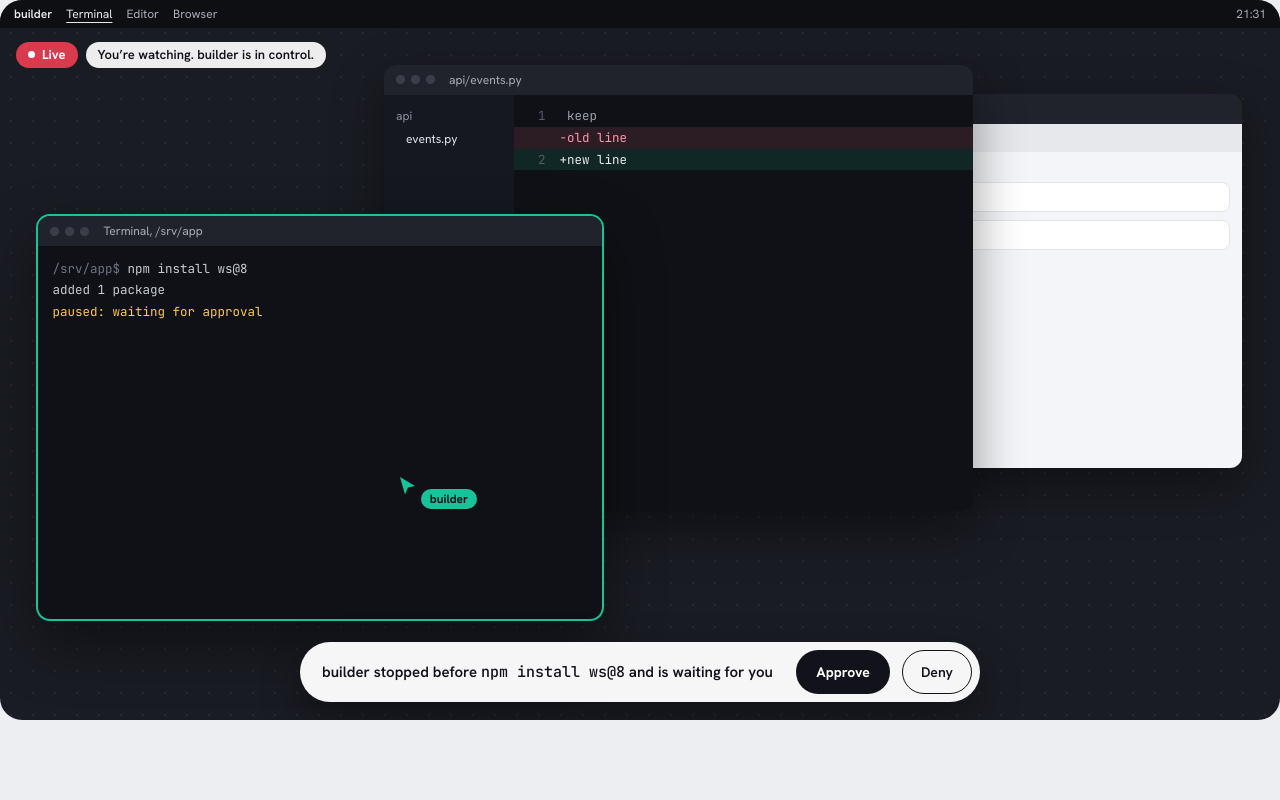
it: the approval bar names the command and answers through the decision endpoint
The image size is (1280, 800).
Expected: the element named "Approval needed" shows "builder stopped before npm install ws@8 and is waiting for you", 300,642 -> 980,702
Click the button "Approve".
click(843, 672)  # box 796,650 -> 890,694
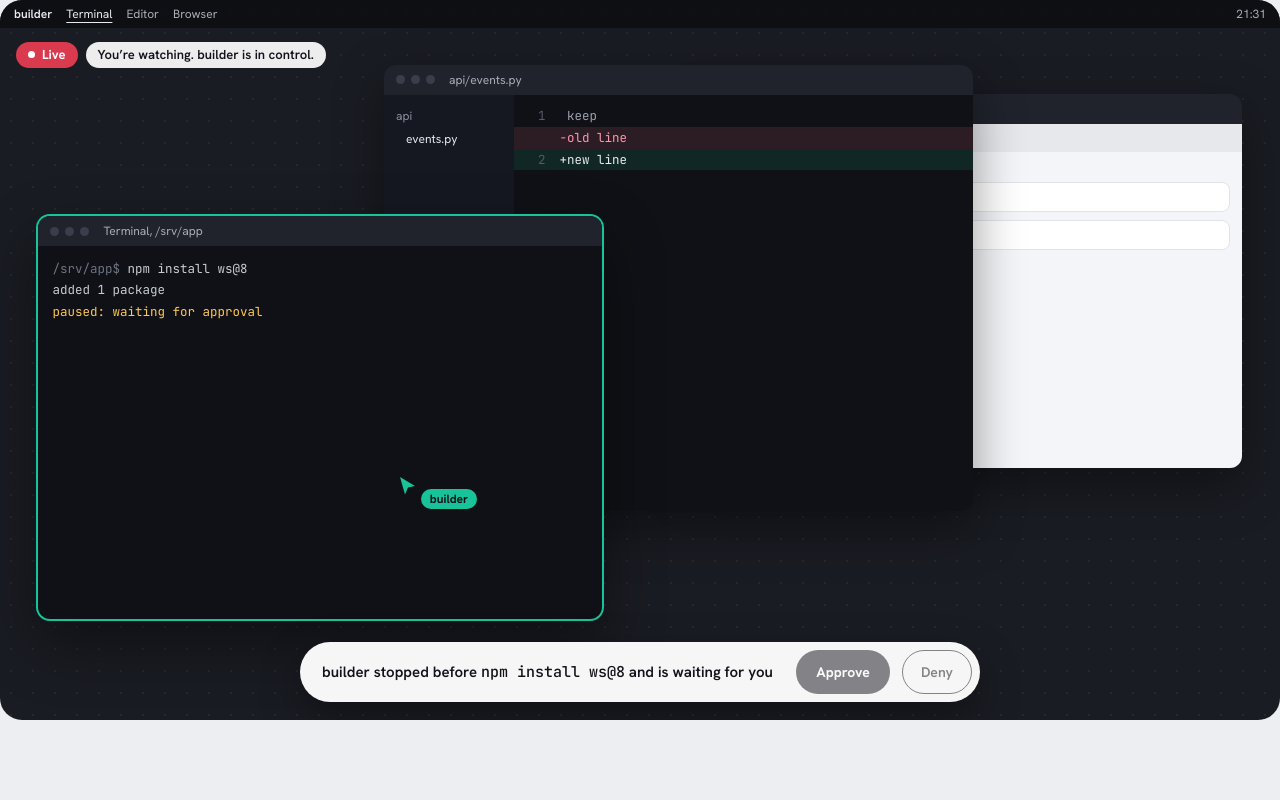
Expected: the button "Deny" is disabled, 902,650 -> 972,694
